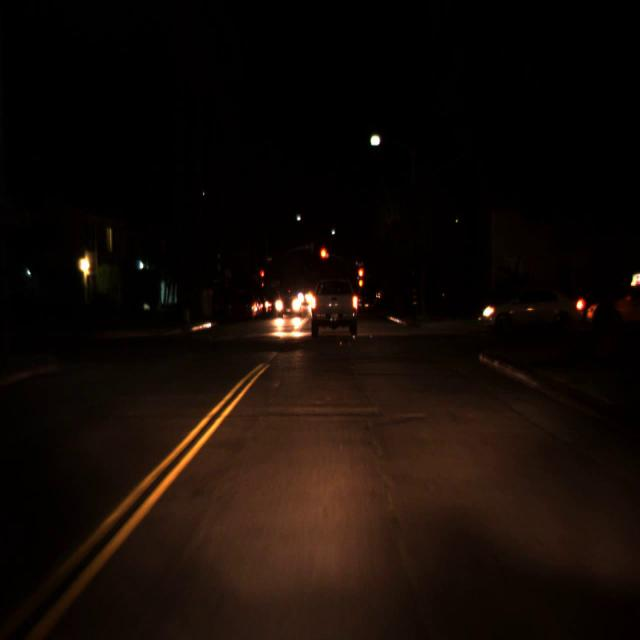stop: (319, 247, 329, 269), (357, 266, 365, 289), (260, 268, 264, 284)
stop traffic light: (319, 247, 329, 269), (357, 266, 365, 289), (260, 268, 264, 284)
